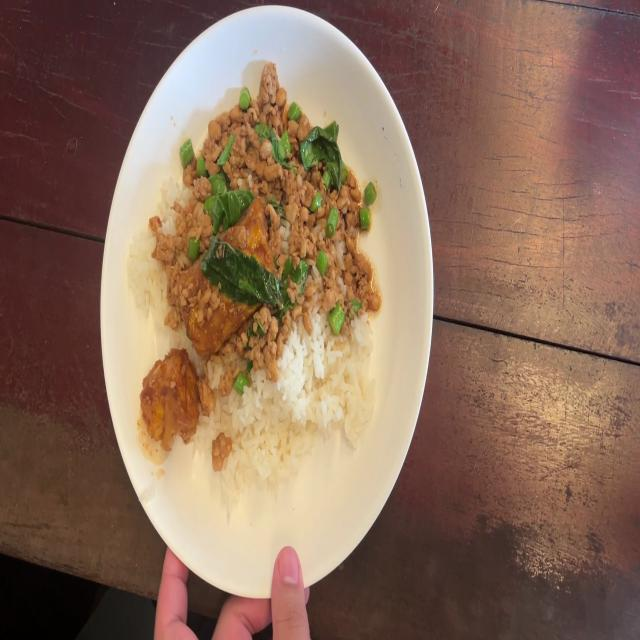01rice: (280, 322, 371, 439), (208, 382, 293, 487), (130, 234, 163, 324)
fried_tofo: (185, 198, 273, 336), (152, 347, 193, 439)
minced_pork: (205, 62, 379, 201), (277, 195, 374, 330), (213, 311, 287, 397), (161, 145, 207, 261)
stir_fried_basil: (138, 64, 378, 524)
